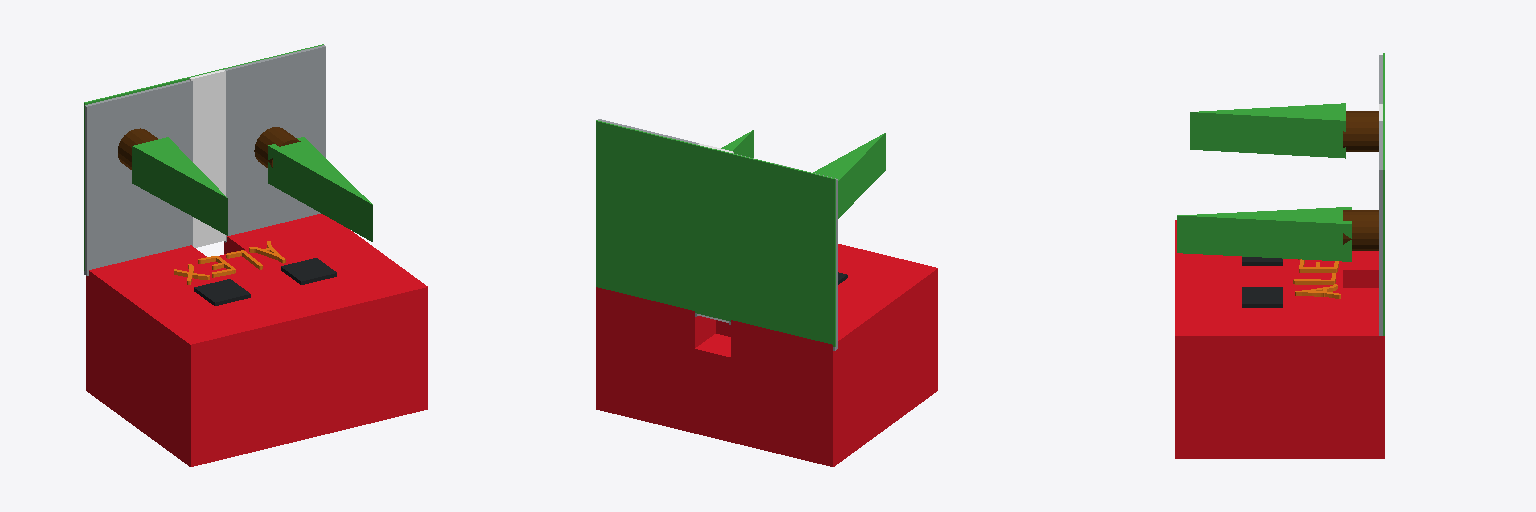
File: tinker.obj
The picture shows the model from 3 angles: view 1: azimuth 30°, elevation 25°; view 2: azimuth 150°, elevation 25°; view 3: azimuth 270°, elevation 25°; orthographic projection.
Visible parts, largest first — view 1: obj_0; view 2: obj_0; view 3: obj_0.
Part boxes in pixels (bbox=[...]): obj_0: bbox=[84, 44, 427, 466]; obj_0: bbox=[596, 119, 937, 466]; obj_0: bbox=[1175, 53, 1384, 458].
Size of the model in its own units: 133 by 153 by 101.